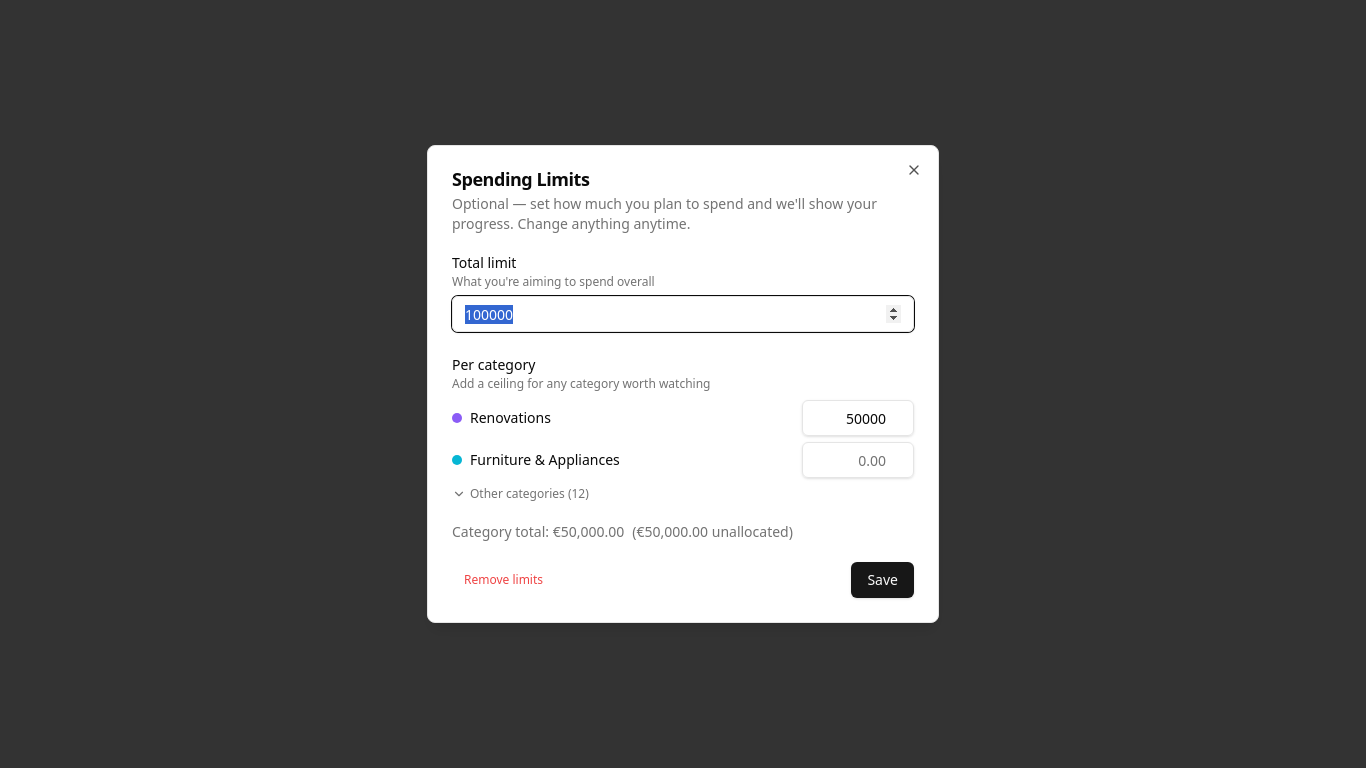
Test: BudgetSetupDialog › shows categories with expenses at the top, rest in collapsible when editing
The width and height of the screenshot is (1366, 768).
Expected: the number of number fields with placeholder "0.00" is 3, [452,296,914,332]; [802,400,914,436]; [802,442,914,478]
Expected: the dialog shows "Renovations", [470,408,551,427]
Expand the collapsible
Step 1. Click the button "Other categories (12)" → click(520, 494), box [452,486,589,502]
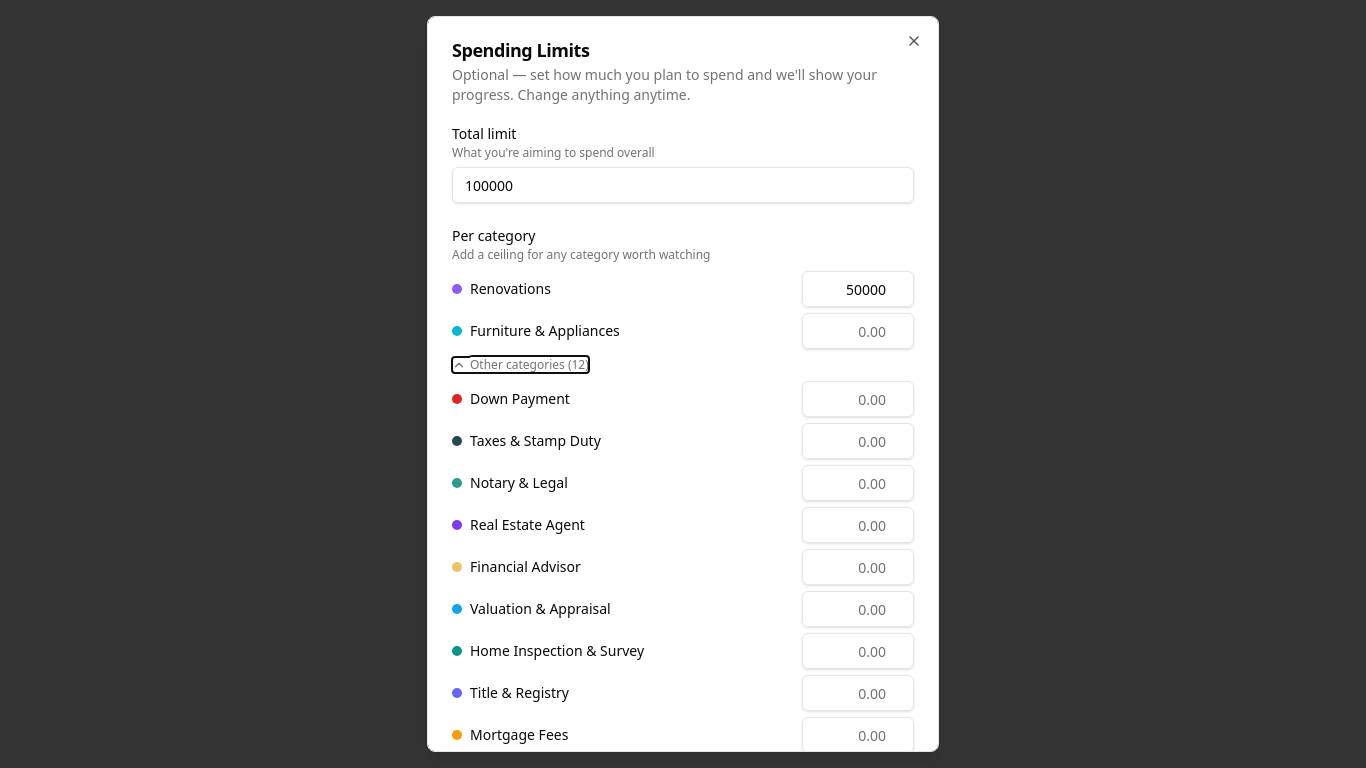
Result: the dialog shows "Down Payment" at [470,389,570,408]
